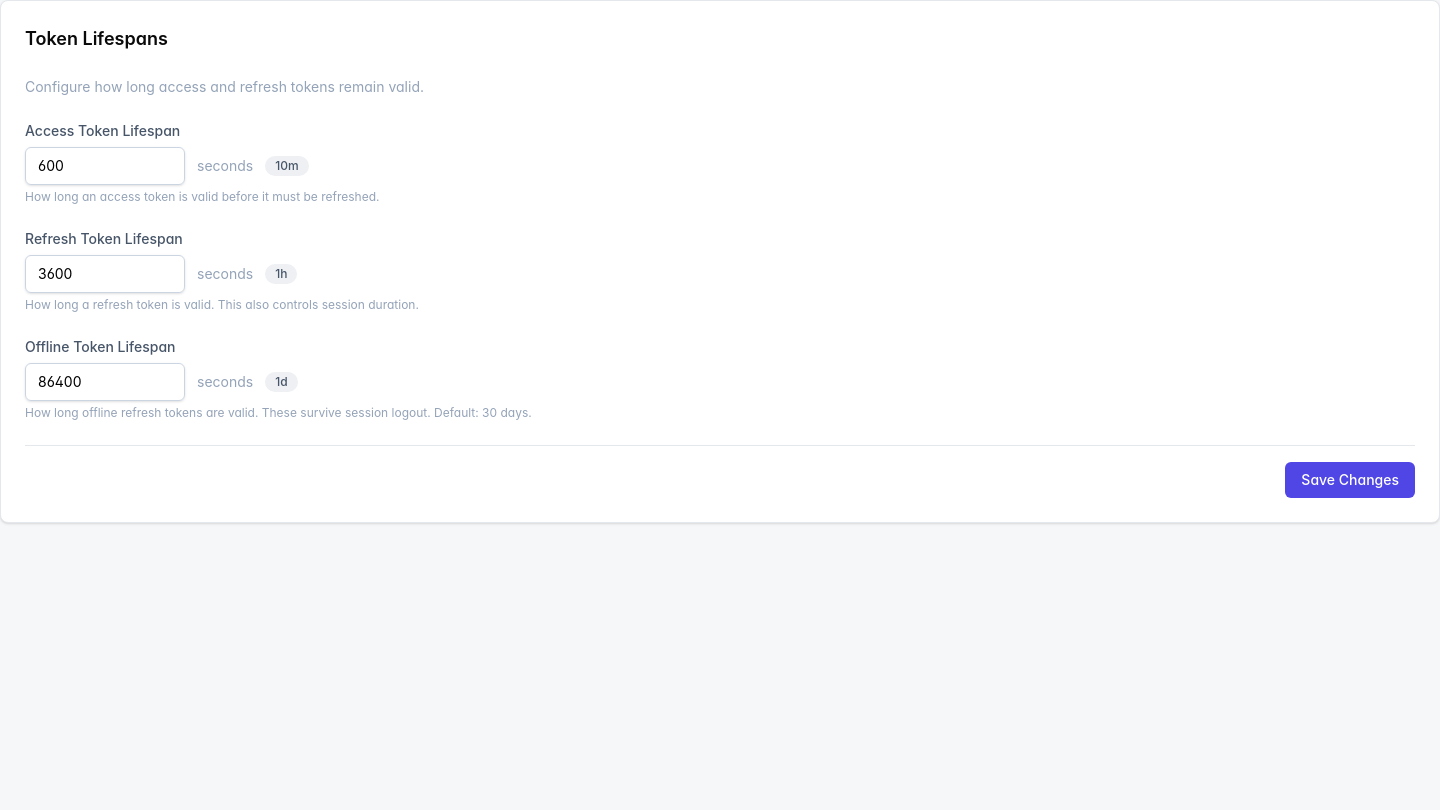
Test: TokenSettingsForm › submits only the token fields and shows a success banner
Click the button "Save Changes" at (1350, 480), box 1285,462 -> 1415,498
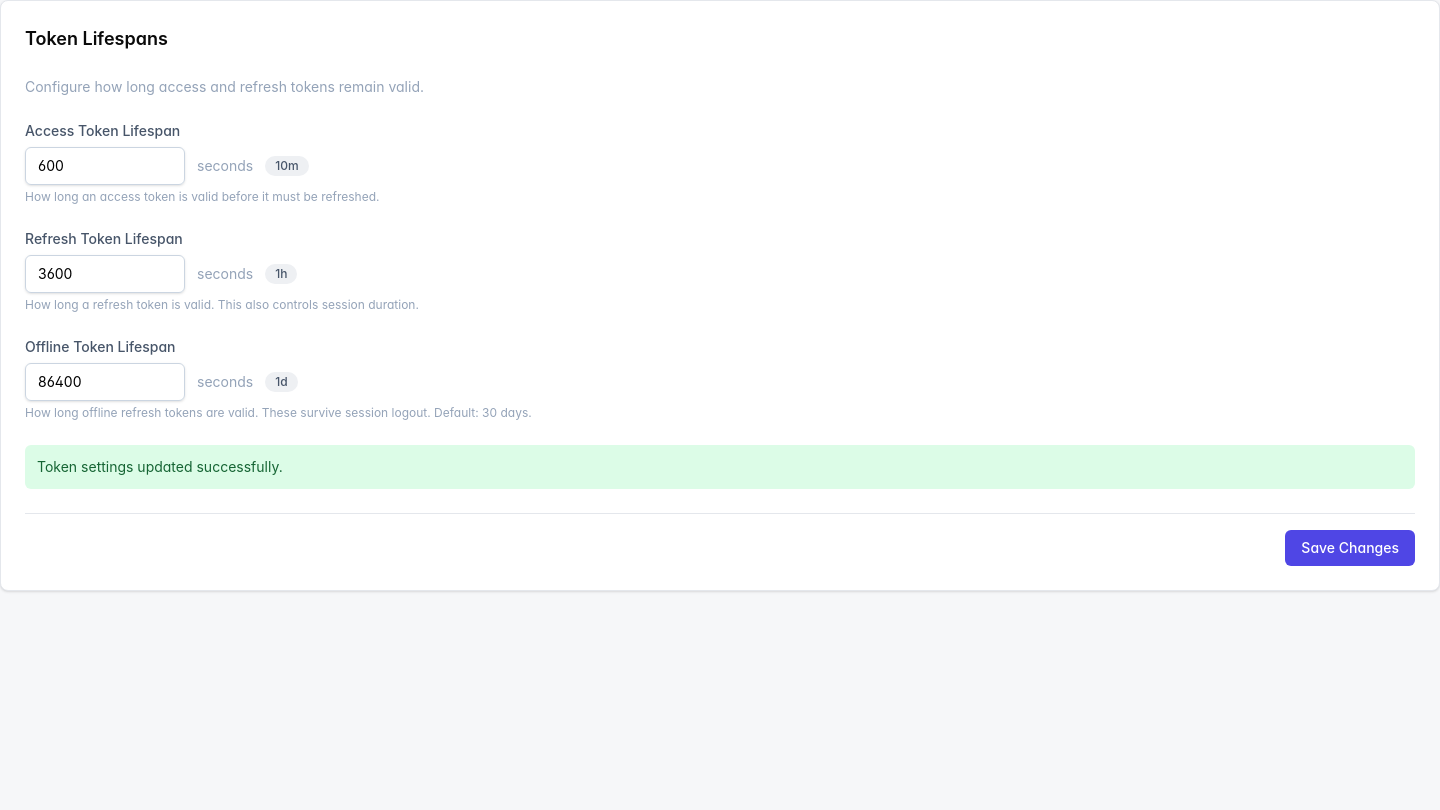
Expected: the text "Token settings updated successfully." is shown, 25,445 -> 1415,489
